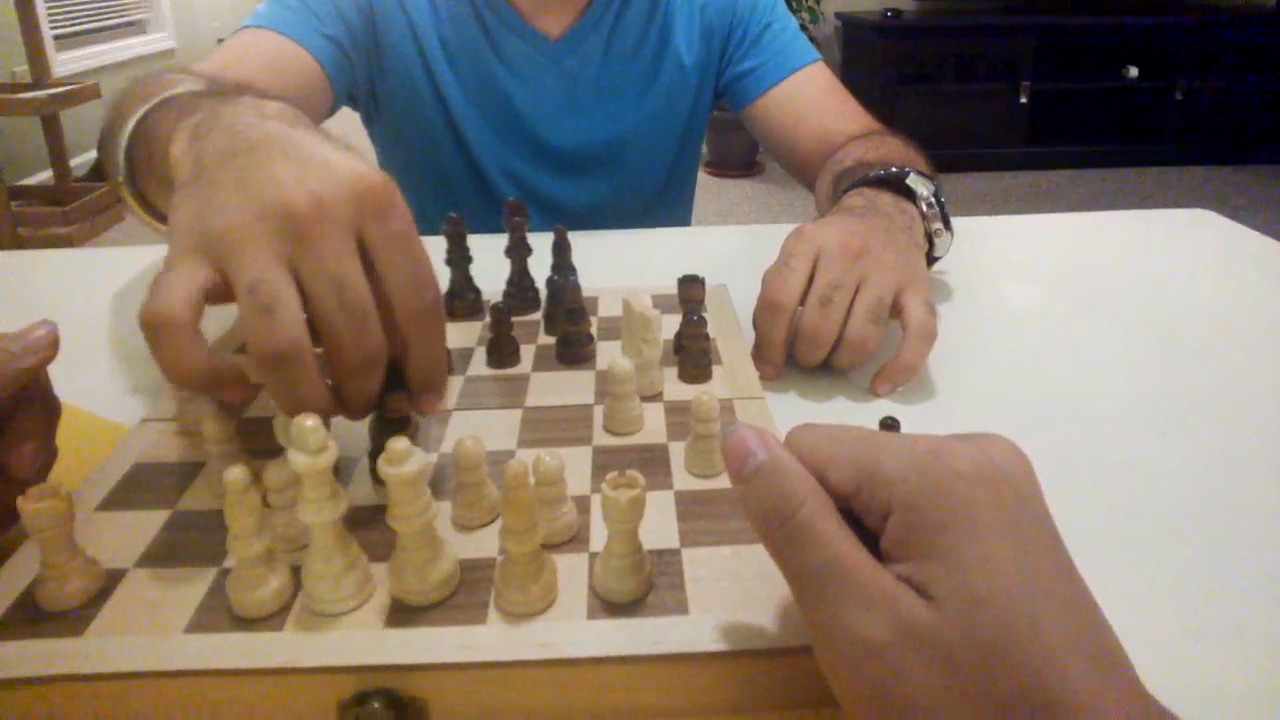hand: (725, 427, 1186, 718), (144, 142, 452, 416), (757, 216, 937, 388), (0, 321, 66, 490)
